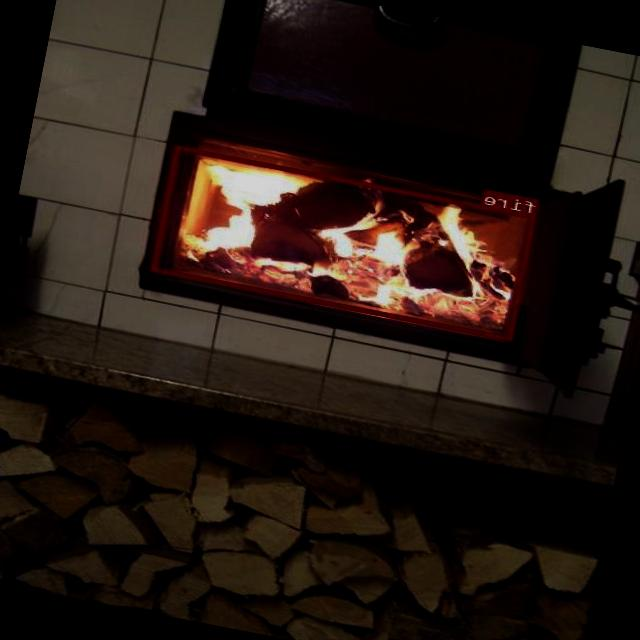fire: (151, 144, 538, 342)
